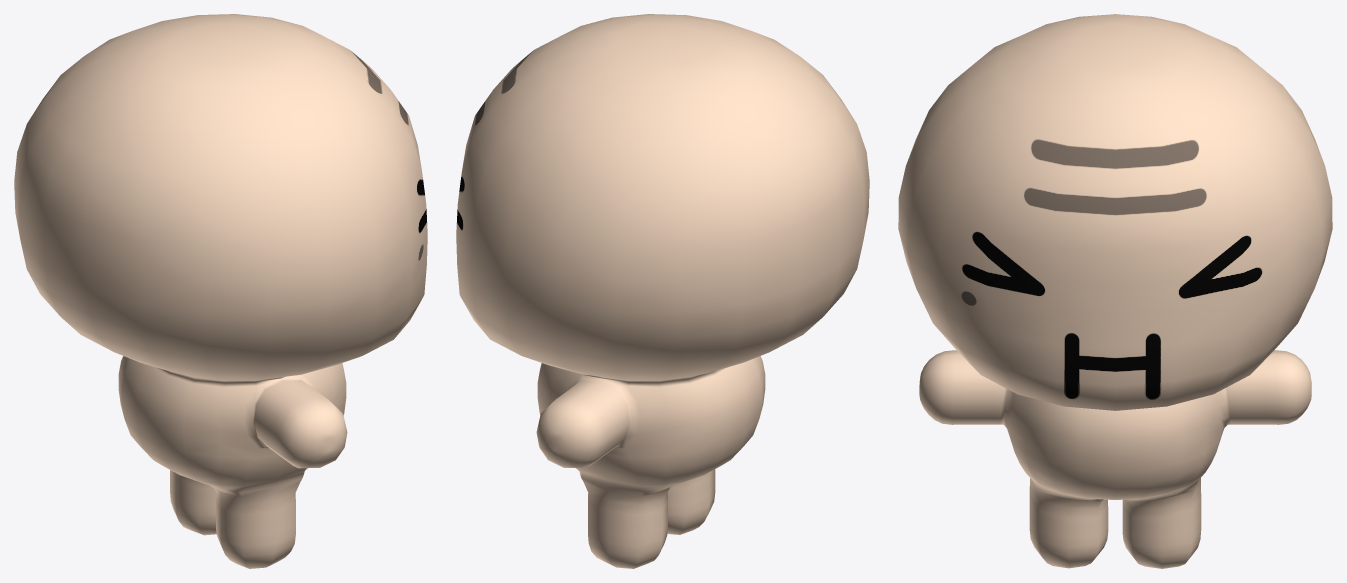
Rendered from Samurai_Temp.fbx.
3 views of the same model, side by side, from view 1: azimuth 30°, elevation 25°; view 2: azimuth 150°, elevation 25°; view 3: azimuth 270°, elevation 25° (orthographic).
Visible parts, largest first — view 1: pSphere19; view 2: pSphere19; view 3: pSphere19.
Part boxes in pixels (x1=…): pSphere19: x1=14, y1=14, x2=427, y2=568; pSphere19: x1=456, y1=14, x2=869, y2=568; pSphere19: x1=898, y1=14, x2=1332, y2=568.
Size of the model in its own units: 1.45 by 1.99 by 1.52.
Materials: 1 (1 with a texture image).
